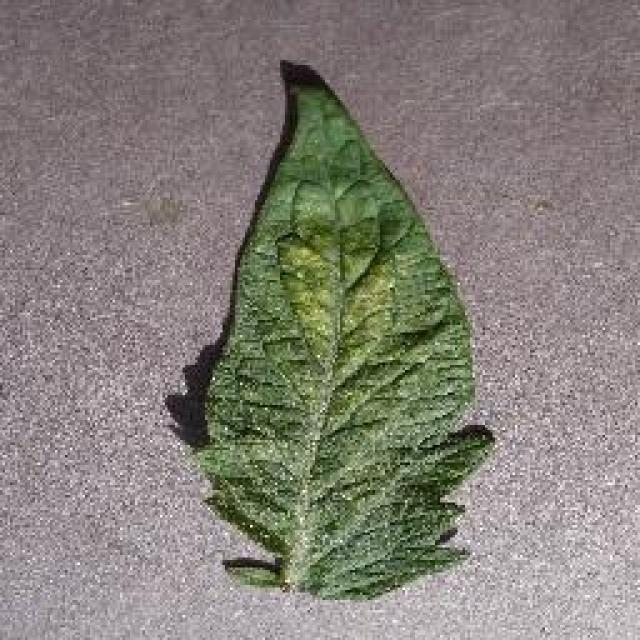Tomato spider mites leaf: (194, 78, 498, 602)
